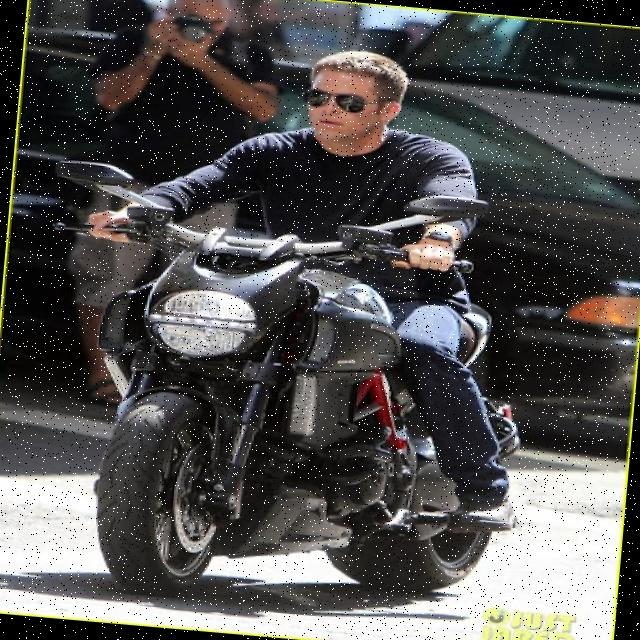No helmet: (304, 41, 411, 156)
